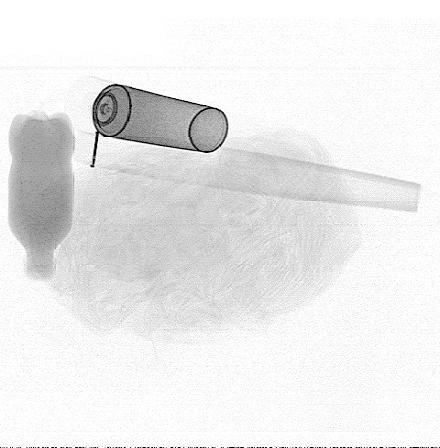Sprayer: (62, 73, 230, 154)
